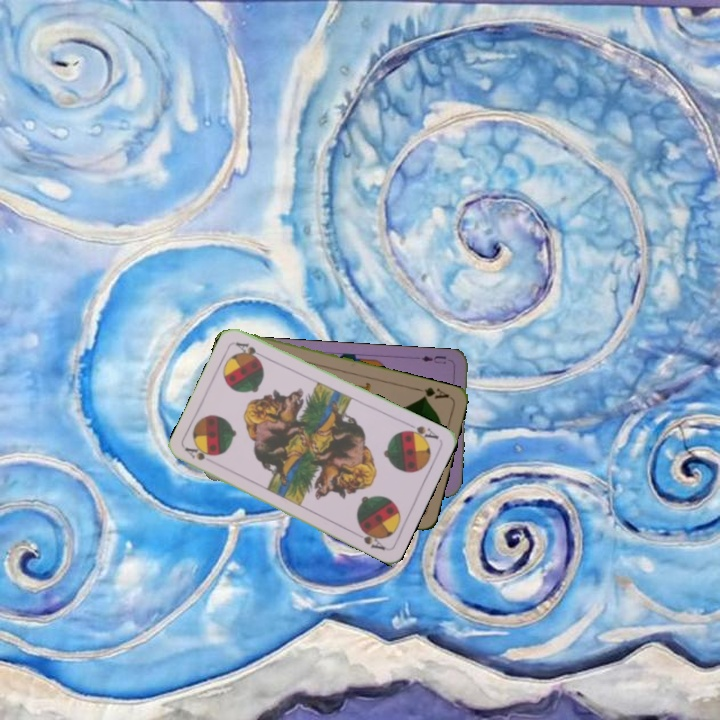EU: (417, 351, 449, 366)
GA: (412, 383, 451, 402)
SA: (400, 419, 442, 444), (181, 443, 212, 463)
